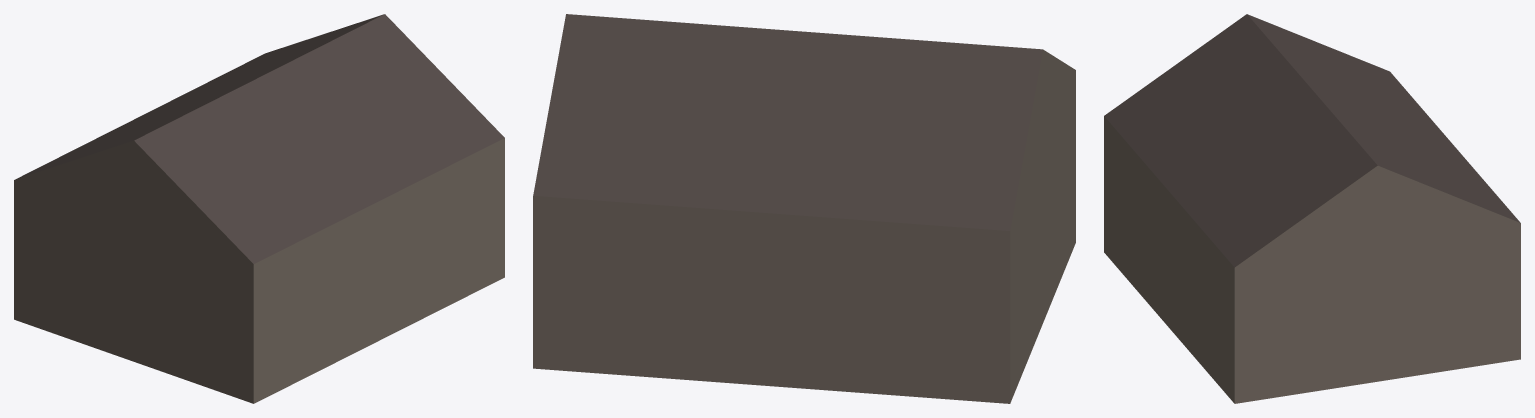
The picture shows the model from 3 angles, left to right: view 1: azimuth 30°, elevation 25°; view 2: azimuth 150°, elevation 25°; view 3: azimuth 270°, elevation 25°; orthographic projection. The views are drawn at different scales.
Parts seen in each view (by area): view 1: HP-w859082512; view 2: HP-w859082512; view 3: HP-w859082512.
Boxes of the visible parts, box(x1,y1,x2,y2) form: HP-w859082512: box(14, 14, 504, 403); HP-w859082512: box(533, 14, 1075, 403); HP-w859082512: box(1104, 14, 1520, 403).
Bounding box in the file's own units: 18.51 × 9.51 × 16.63.
